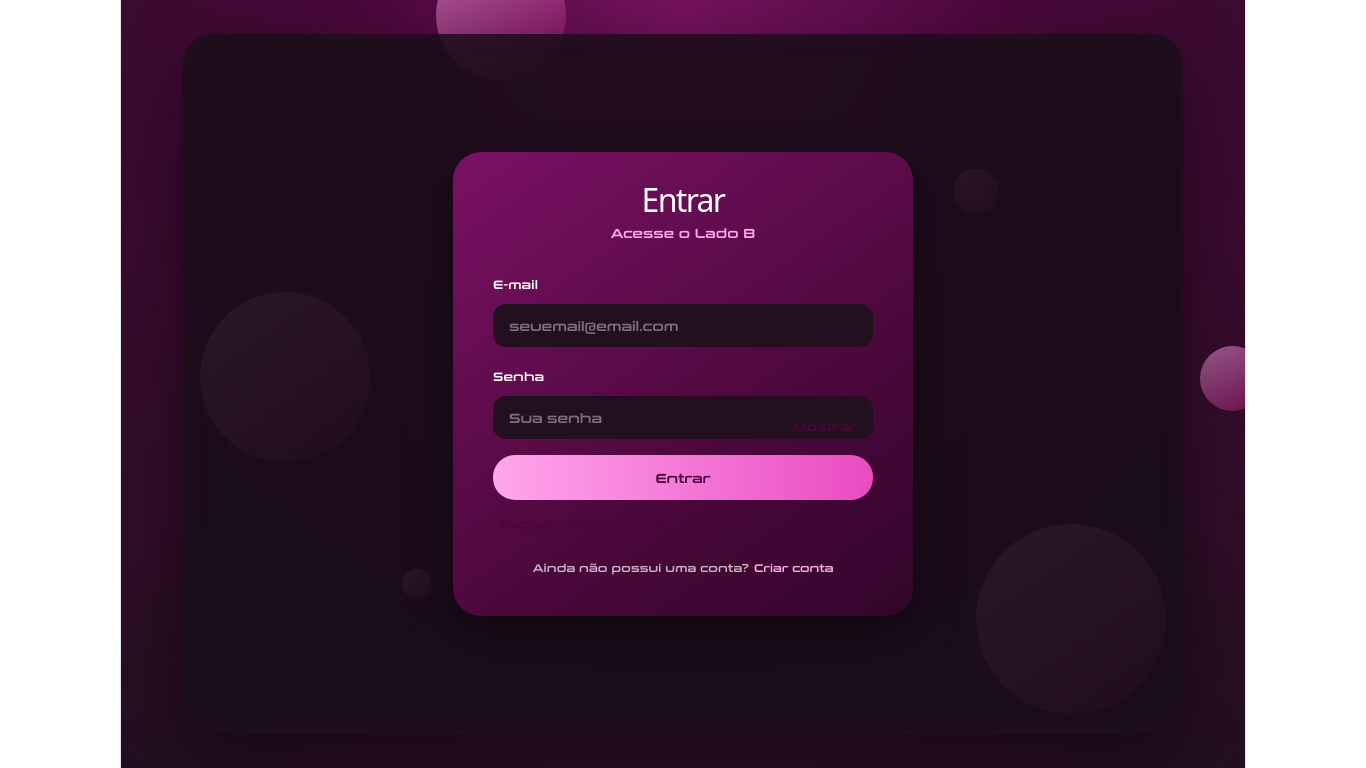
Scenario: Entrar › "Criar conta" leva ao cadastro
Click the button "Criar conta".
click(794, 568)  # box [754,560,833,575]
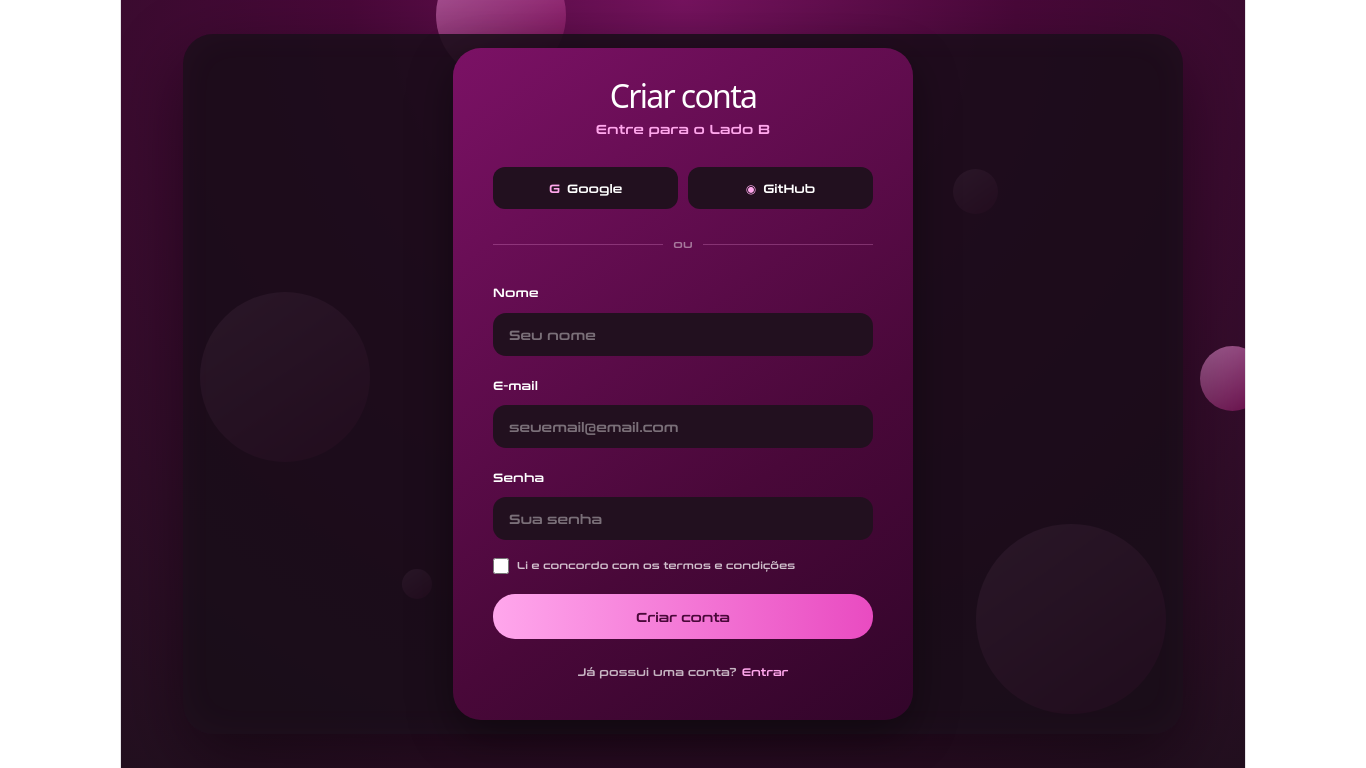
Result: the heading "Criar conta" is shown at [610,74,756,117]
